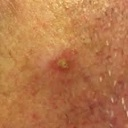Melanoma: (52, 55, 73, 73)
